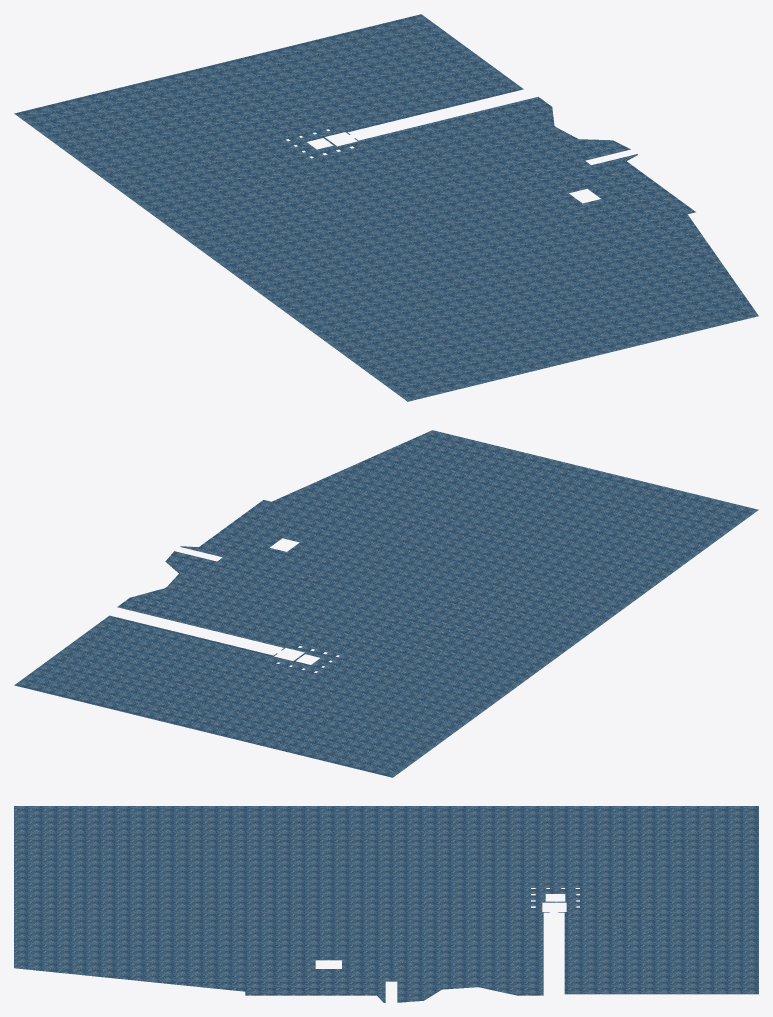
File: beach_water.FBX
3 views of the same model, one above another, from view 1: azimuth 30°, elevation 25°; view 2: azimuth 150°, elevation 25°; view 3: azimuth 270°, elevation 25° (orthographic). The views are drawn at different scales.
Visible parts, largest first — view 1: beach_water; view 2: beach_water; view 3: beach_water.
Part boxes in pixels (left/top/right/bottom): beach_water: left=14, top=14, right=758, bottom=401; beach_water: left=14, top=430, right=758, bottom=777; beach_water: left=14, top=806, right=758, bottom=1002.
Bounding box in the file's own units: 12757 × 20422 × 7.63e-05.
